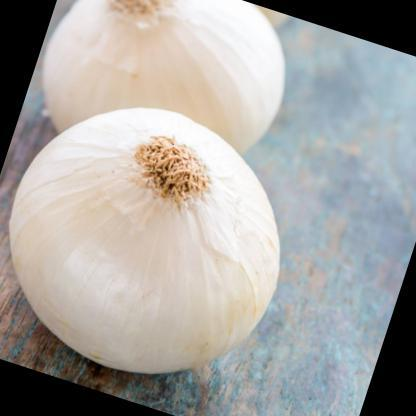onion: (0, 68, 340, 415)
